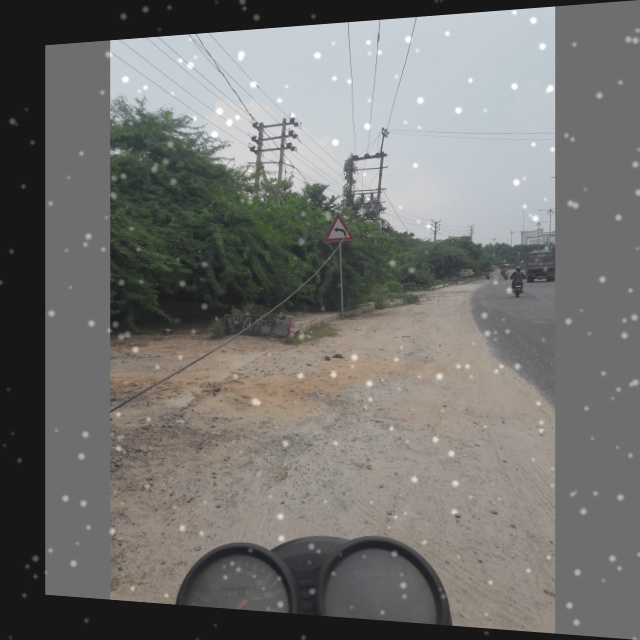Left_Hand_Curve: (324, 213, 354, 244)
